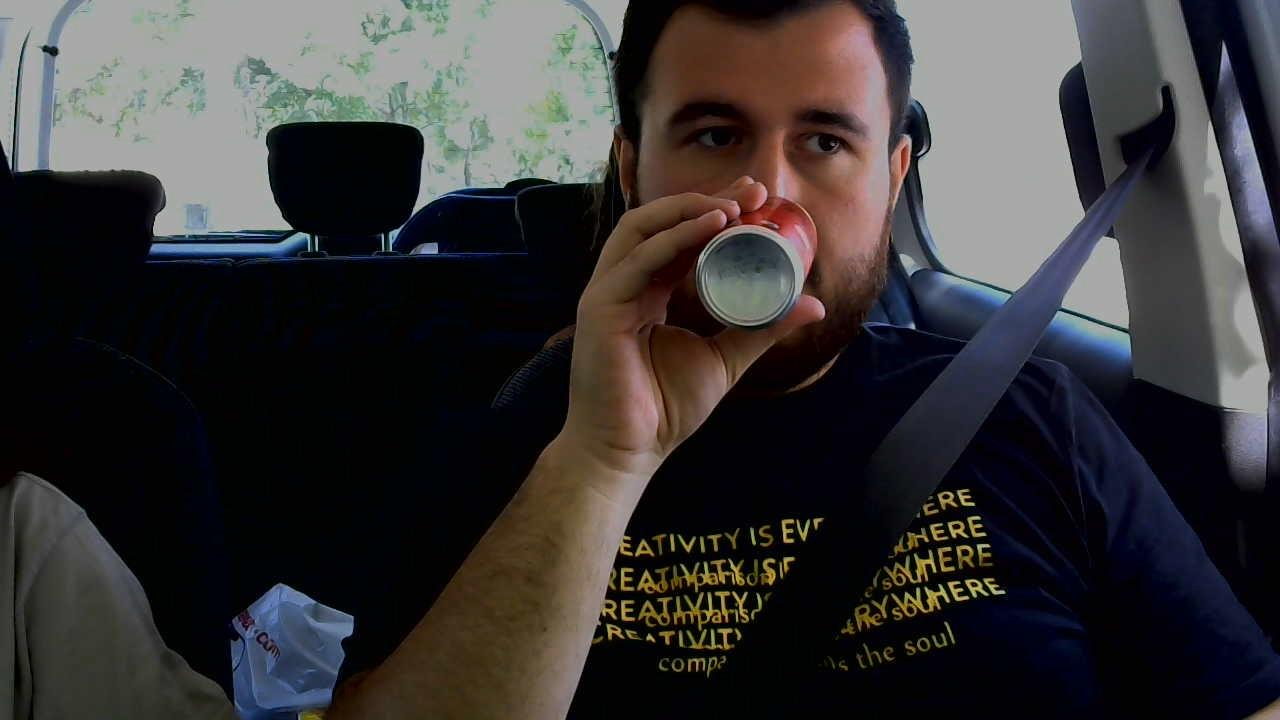Drinking: (578, 0, 914, 394)
